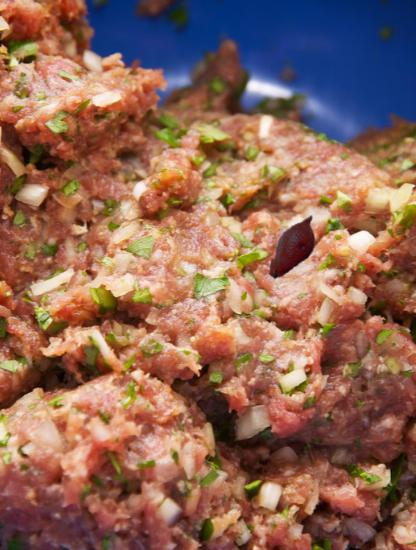Salak: (258, 211, 331, 284)
